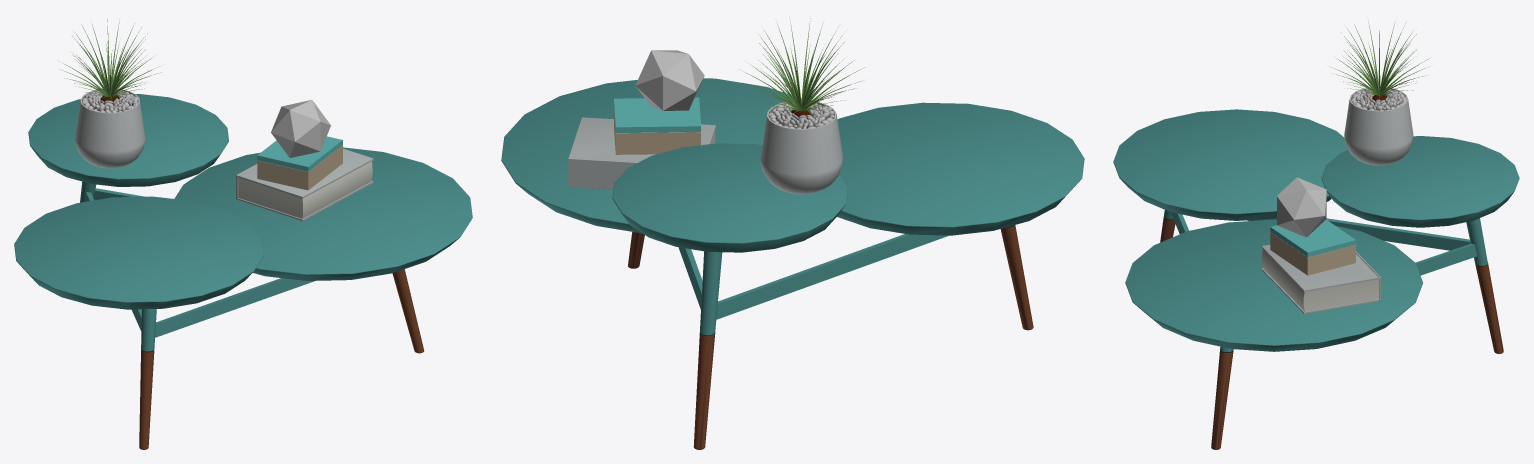
The model's file is coffee_table_1.glb.
The picture shows the model from 3 angles, left to right: view 1: azimuth 30°, elevation 25°; view 2: azimuth 150°, elevation 25°; view 3: azimuth 270°, elevation 25°; orthographic projection. The views are drawn at different scales.
Parts seen in each view (by area): view 1: Coffee_Tableobjcleanermaterialmergergles; view 2: Coffee_Tableobjcleanermaterialmergergles; view 3: Coffee_Tableobjcleanermaterialmergergles.
Boxes of the visible parts, x1,y1,x2,y2 form: Coffee_Tableobjcleanermaterialmergergles: (14,19,472,449); Coffee_Tableobjcleanermaterialmergergles: (501,18,1084,449); Coffee_Tableobjcleanermaterialmergergles: (1113,21,1519,449).
Bounding box in the file's own units: 1.45 × 0.9855 × 1.17.
